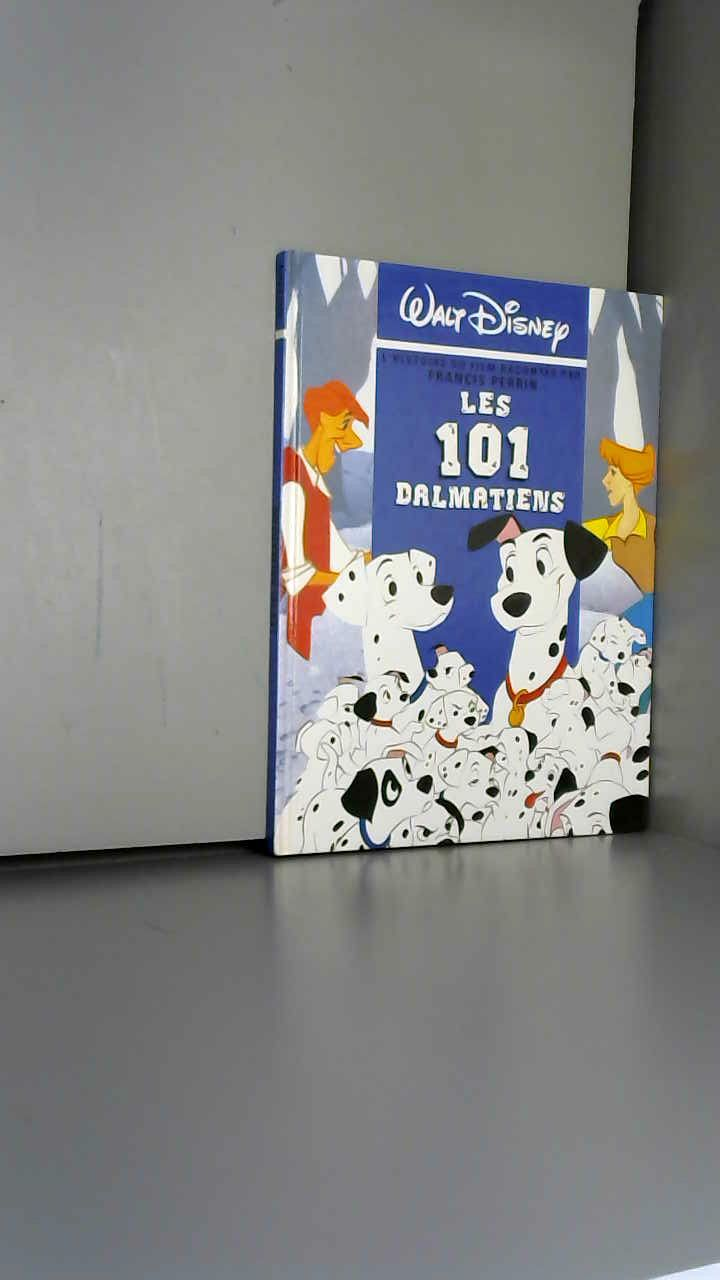book: (240, 230, 720, 934)
